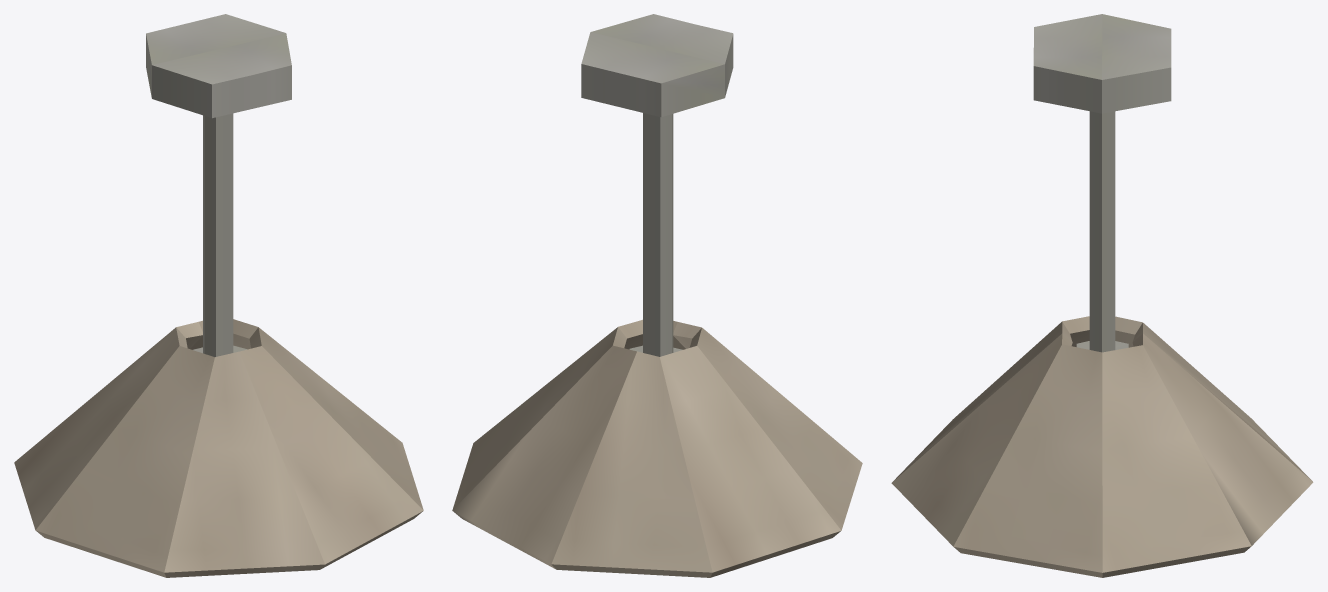
The model's file is SM_EC_CeilingRose_0.fbx.
The picture shows the model from 3 angles, left to right: view 1: azimuth 30°, elevation 25°; view 2: azimuth 150°, elevation 25°; view 3: azimuth 270°, elevation 25°; orthographic projection.
Visible parts, largest first — view 1: SM_EC_LightShade_0, SM_EC_CeilingRose_0; view 2: SM_EC_LightShade_0, SM_EC_CeilingRose_0; view 3: SM_EC_LightShade_0, SM_EC_CeilingRose_0.
Boxes of the visible parts, x1,y1,x2,y2 form: SM_EC_LightShade_0: (14, 319, 423, 577); SM_EC_CeilingRose_0: (146, 14, 291, 356); SM_EC_LightShade_0: (452, 319, 862, 577); SM_EC_CeilingRose_0: (581, 14, 733, 356); SM_EC_LightShade_0: (891, 316, 1313, 577); SM_EC_CeilingRose_0: (1033, 14, 1171, 352).
Bounding box in the file's own units: 0.2875 × 0.2876 × 0.3355.
